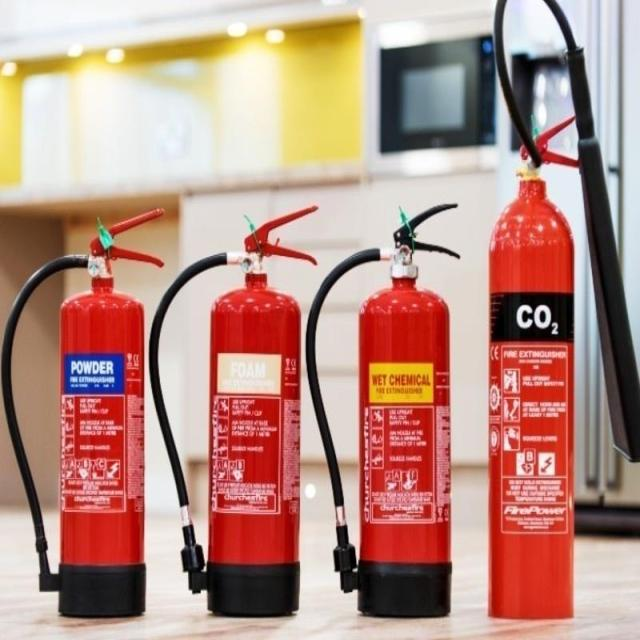fire_extinguisher: (484, 0, 639, 624), (144, 201, 322, 624), (0, 204, 168, 620), (302, 197, 466, 621)
